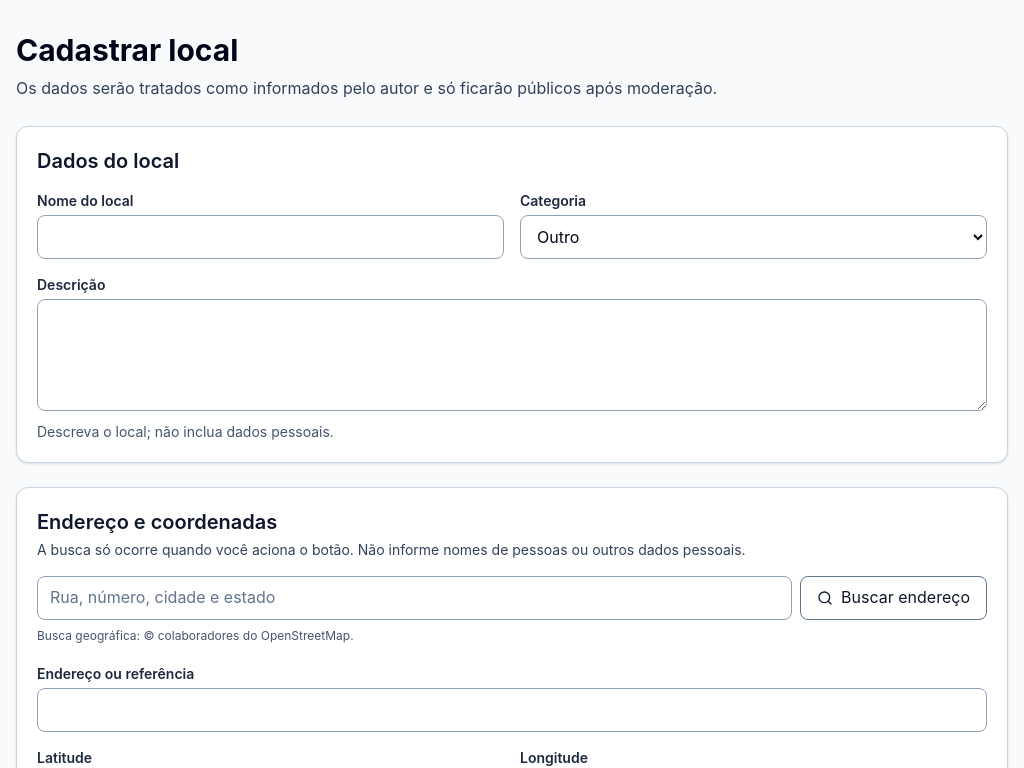
Test: NovoLocal › não converte latitude e longitude vazias em coordenadas zero
Type "Local sintético" into the field labelled "Nome do local". click: {"x": 270, "y": 237}
box: [37,215,504,259]
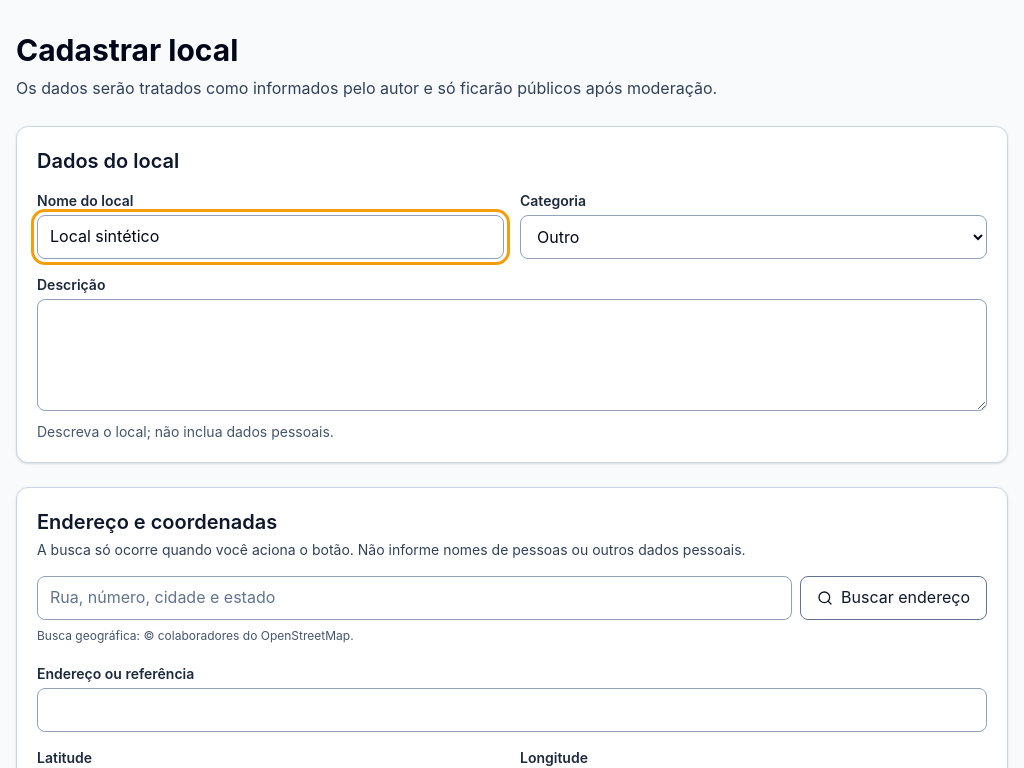
Type "Rua de Teste, 1" into the field labelled "Endereço ou referência". click: {"x": 512, "y": 710}
box: [37,688,987,732]
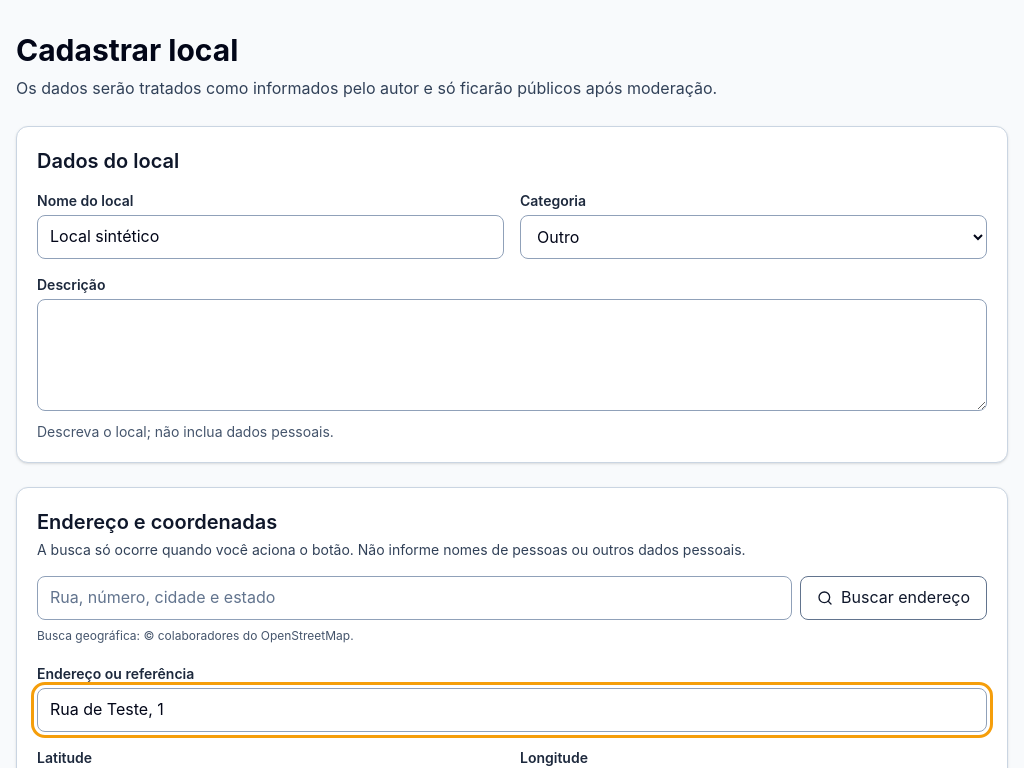
Type "Descrição suficientemente detalhada." into the text box labelled "Descrição". click: {"x": 512, "y": 355}
box: [37,299,987,411]
(page scrolled)
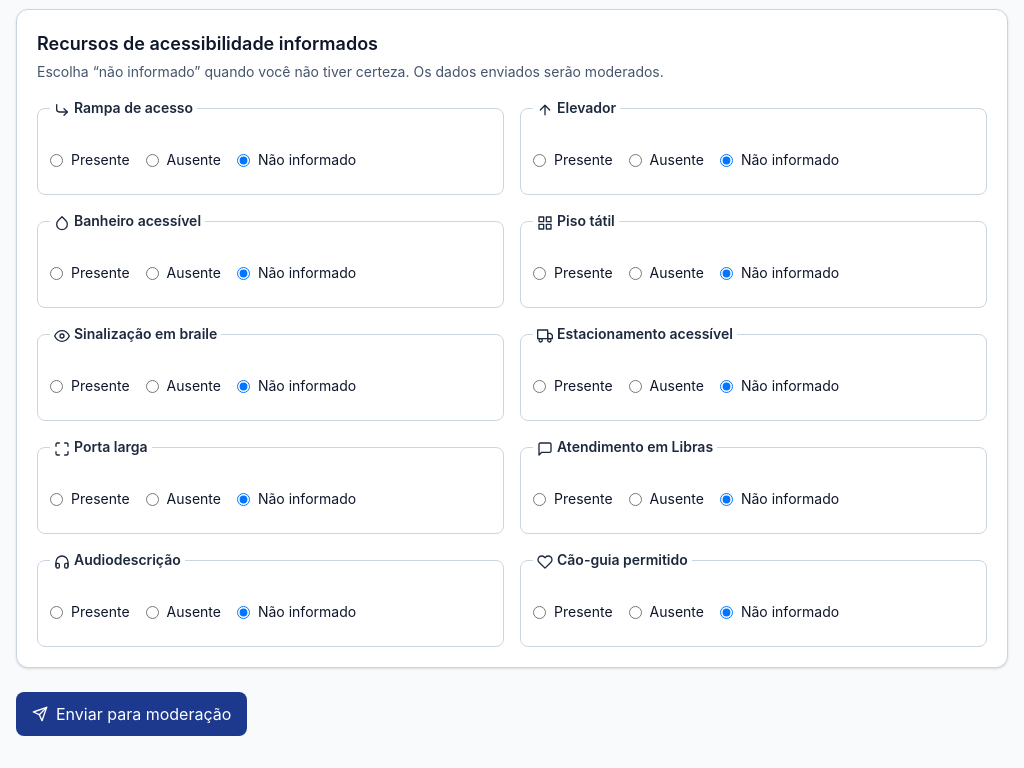
Click the button "Enviar para moderação". click: {"x": 132, "y": 714}
box: [16,692,247,736]
(page scrolled)
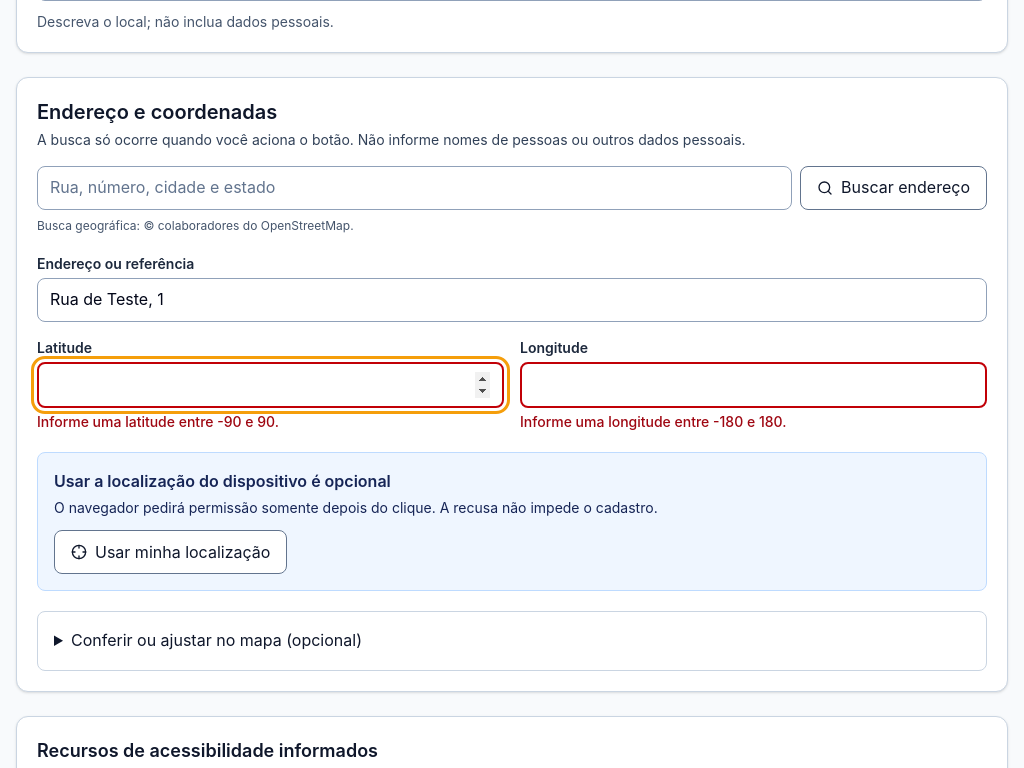
expect the text "Informe uma latitude entre -90 e 90." is shown: met, box [37,413,279,430]
expect the text "Informe uma longitude entre -180 e 180." is shown: met, box [520,413,786,430]
